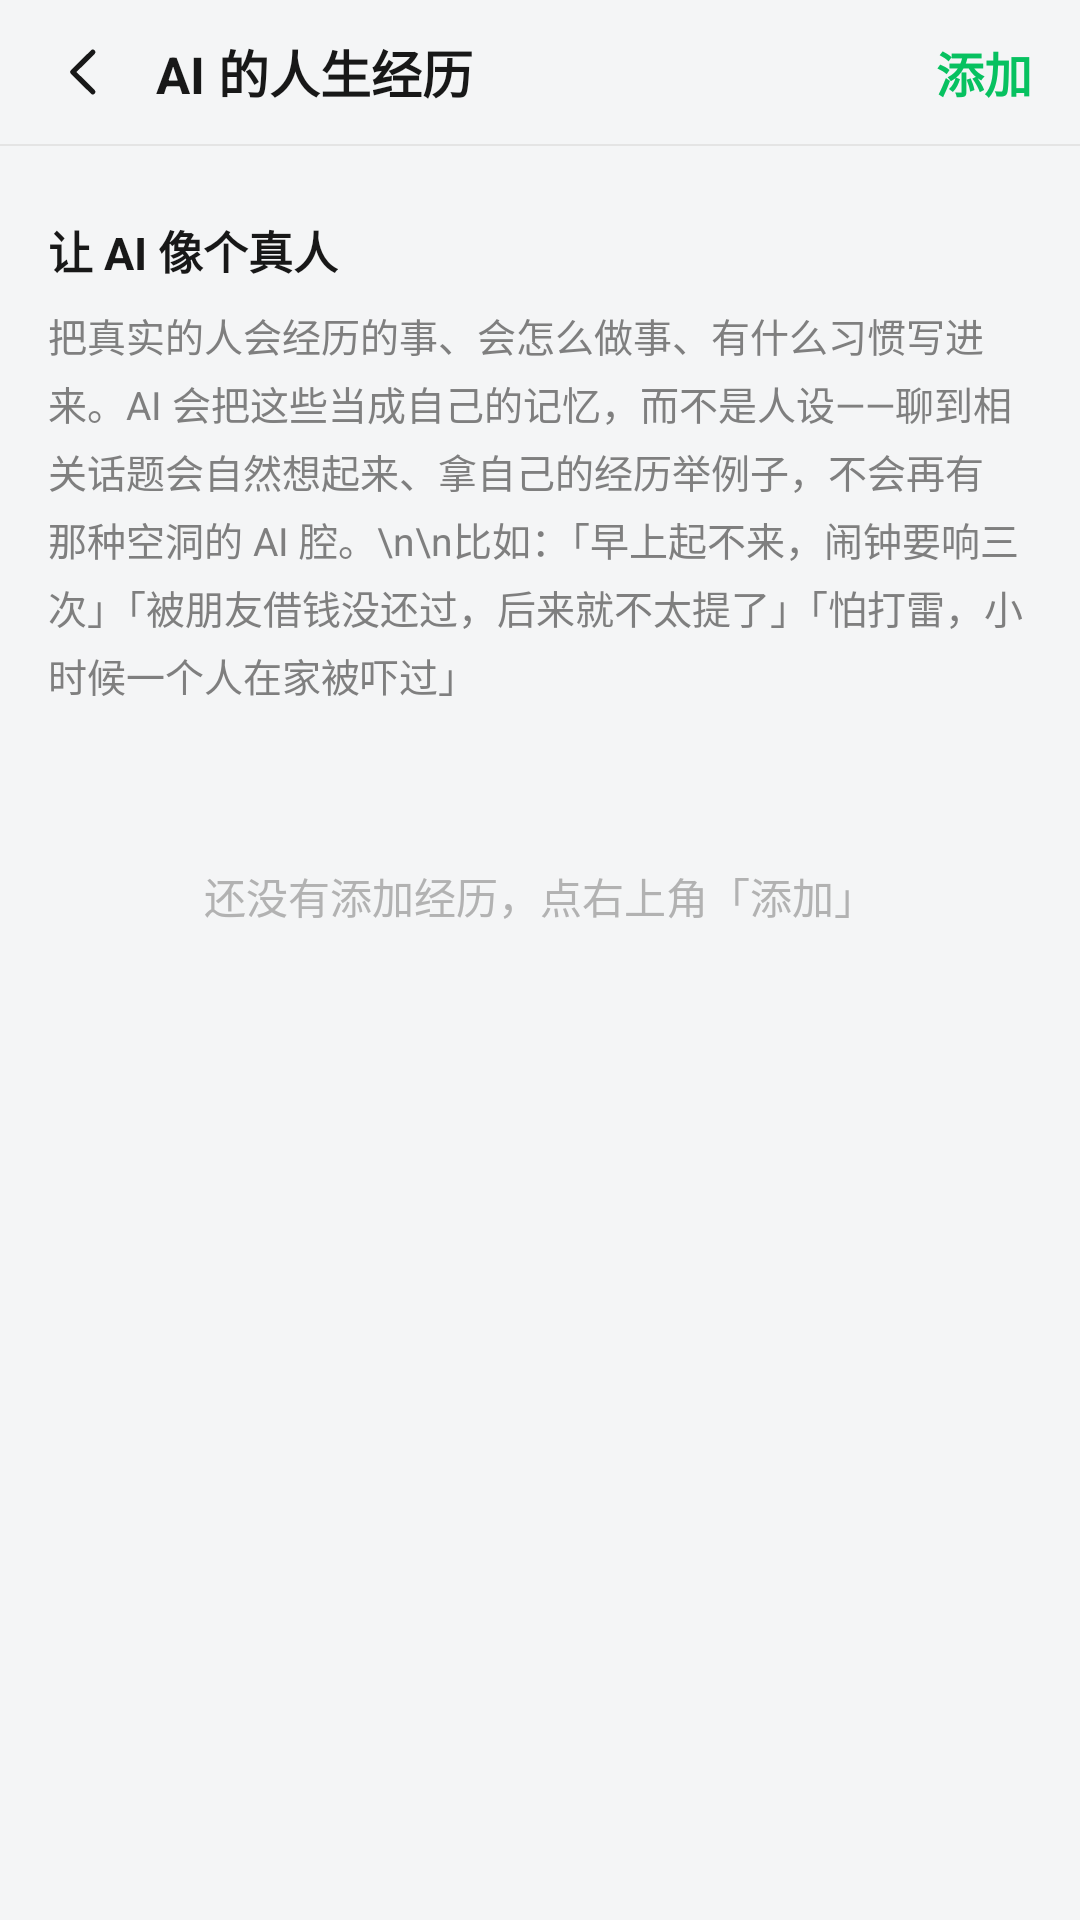

Screen size 1080 x 1920. Icon name, then its box in pixels as {"left": x1, "top": y1, "right": x2, "bottom": y2}:
返回: {"left": 70, "top": 49, "right": 96, "bottom": 95}
